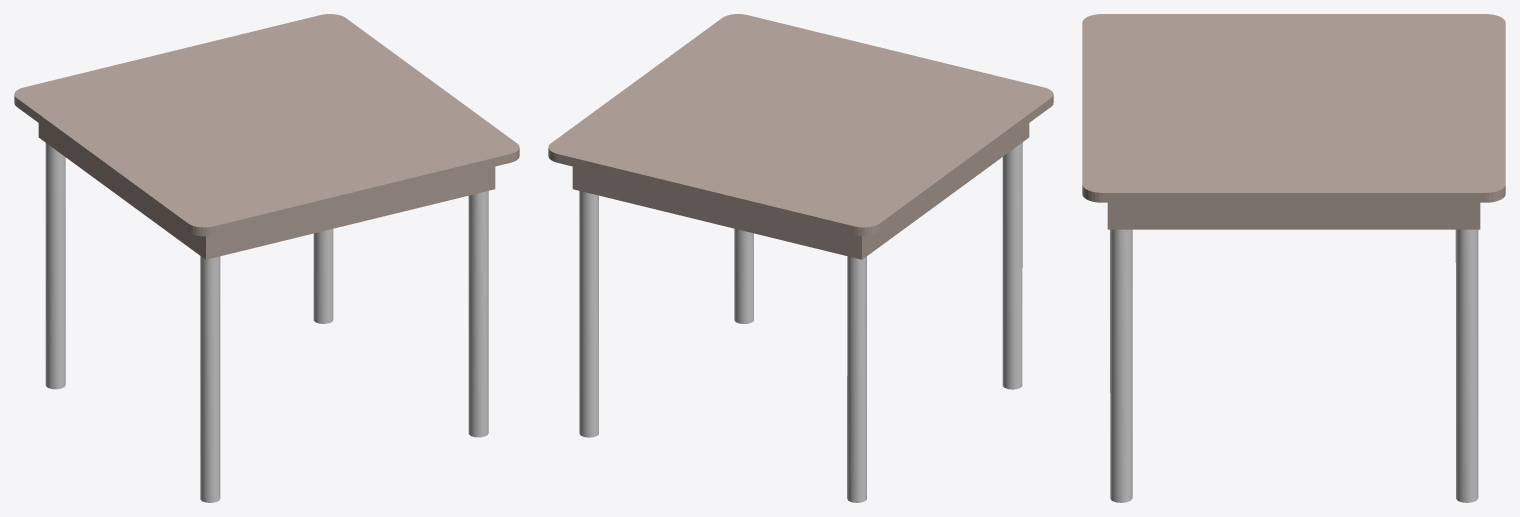
Rendered from mesa salao.fbx.
The picture shows the model from 3 angles, left to right: view 1: azimuth 30°, elevation 25°; view 2: azimuth 150°, elevation 25°; view 3: azimuth 270°, elevation 25°; orthographic projection. The views are drawn at different scales.
Parts seen in each view (by area): view 1: Cylinder.001; view 2: Cylinder.001; view 3: Cylinder.001.
Part boxes in pixels (x1,y1,x2,y2): Cylinder.001: (14,14,519,502); Cylinder.001: (548,14,1053,502); Cylinder.001: (1082,14,1505,502).
Bounding box in the file's own units: 0.7001 × 0.5872 × 0.7001.
